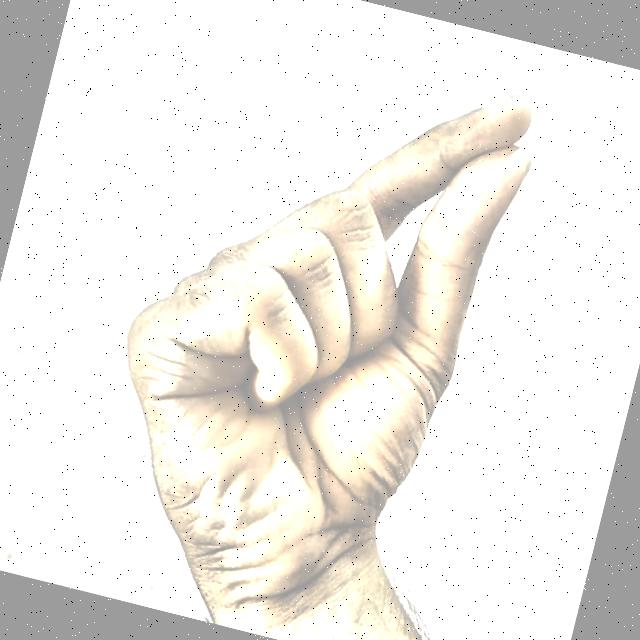Anusshar: (29, 0, 622, 640)
